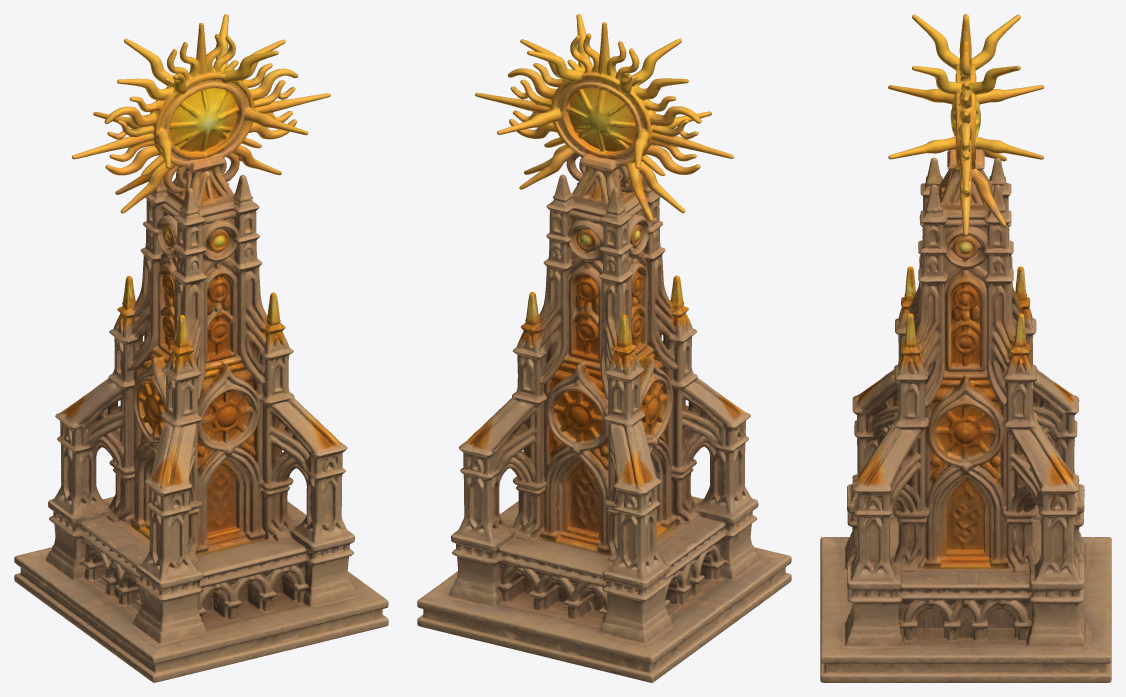
3 renders of one model, left to right at view 1: azimuth 30°, elevation 25°; view 2: azimuth 150°, elevation 25°; view 3: azimuth 270°, elevation 25°, orthographic. The views are drawn at different scales.
Parts seen in each view (by area): view 1: untitled; view 2: untitled; view 3: untitled.
Boxes of the visible parts, x1=… form: untitled: x1=14, y1=14, x2=388, y2=682; untitled: x1=417, y1=14, x2=791, y2=682; untitled: x1=820, y1=14, x2=1111, y2=682.
Size of the model in its own units: 0.9312 by 2 by 0.8726.
1 material, 1 textured.
